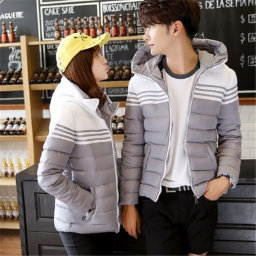face: (134, 3, 206, 56), (65, 45, 117, 92)
